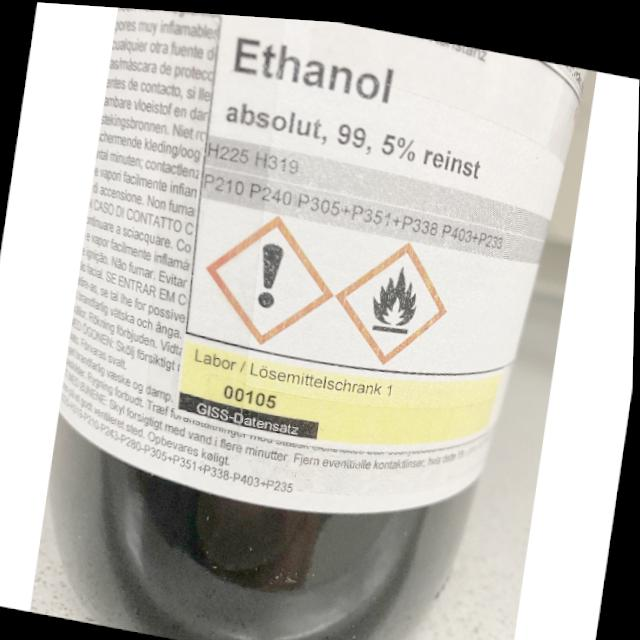flammable: (369, 256, 422, 331)
health-ozone layer hazard: (255, 237, 285, 306)
